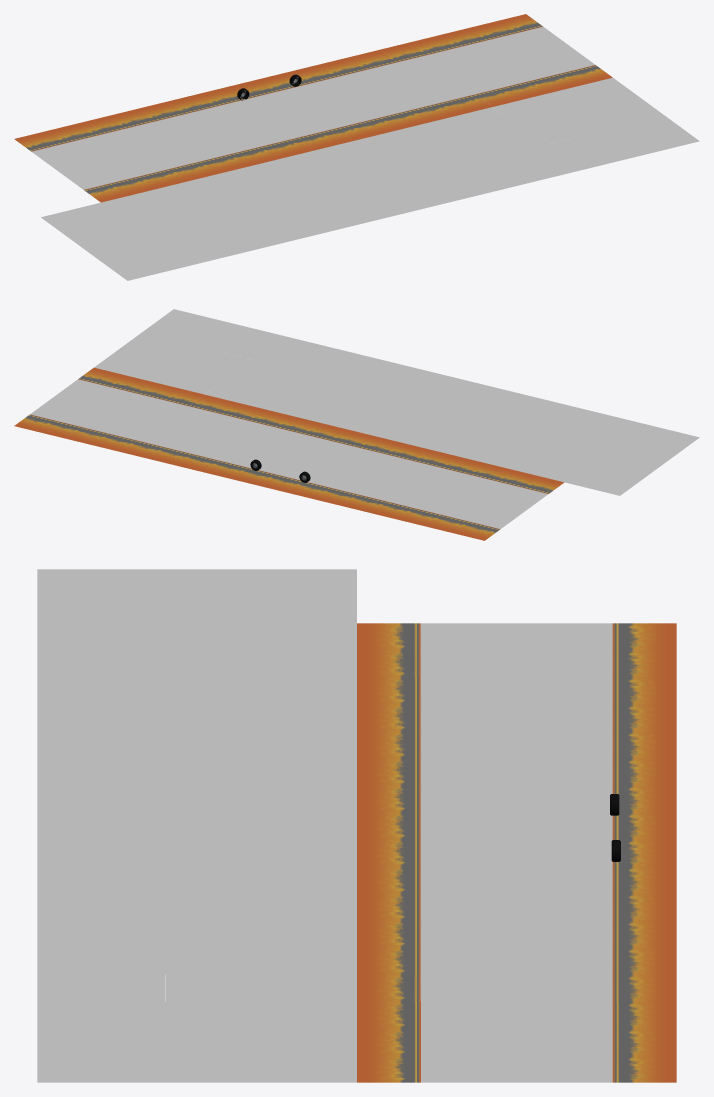
Rendered from VanBob.fbx.
3 renders of one model, top to bottom at view 1: azimuth 30°, elevation 25°; view 2: azimuth 150°, elevation 25°; view 3: azimuth 270°, elevation 25°, orthographic. The views are drawn at different scales.
Visible parts, largest first — view 1: Floor2x41, Floor2x148, Floor2x59 (3), Floor2x56, Floor2x92, Floor2x91 (3), Floor2x84, Floor2x32, Floor2x58 (4), Floor2x147, Floor2x12, Floor2x8 (+168 smaller); view 2: Floor2x144, Floor2x58 (4), Floor2x12, Floor2x47, Floor2x114 (2), Floor2x91 (4), Floor2x102, Floor2x84, Floor2x58, Floor2x41, Floor2x147, Floor2x22 (+168 smaller); view 3: Floor2x8, Floor2x9, Floor2x7, Floor2x10, Floor2x126, Floor2x25, Floor2x48, Floor2x32, Floor2x45, Floor2x58, Floor2x41, Floor2x147 (+168 smaller).
Part boxes in pixels (x1,y1,x2,y2): Floor2x41: [350, 83, 396, 103]; Floor2x148: [32, 144, 78, 164]; Floor2x59 (3): [466, 21, 512, 41]; Floor2x56: [74, 117, 121, 136]; Floor2x92: [497, 132, 544, 152]; Floor2x91 (3): [588, 110, 634, 130]; Floor2x84: [239, 178, 285, 198]; Floor2x32: [290, 98, 336, 118]; Floor2x58 (4): [531, 39, 577, 59]; Floor2x147: [79, 150, 125, 169]; Floor2x12: [169, 127, 216, 147]; Floor2x8: [200, 120, 246, 140]; Floor2x144: [624, 454, 667, 472]; Floor2x58 (4): [46, 391, 89, 409]; Floor2x12: [378, 472, 421, 490]; Floor2x47: [390, 490, 433, 508]; Floor2x114 (2): [197, 334, 240, 352]; Floor2x91 (4): [126, 332, 169, 350]; Floor2x102: [375, 393, 418, 411]; Floor2x84: [442, 425, 485, 443]; Floor2x58: [129, 411, 171, 429]; Floor2x41: [212, 431, 255, 449]; Floor2x147: [462, 492, 504, 510]; Floor2x22: [311, 440, 354, 458]; Floor2x8: [484, 758, 548, 785]; Floor2x9: [420, 758, 484, 785]; Floor2x7: [548, 758, 612, 785]; Floor2x10: [612, 758, 676, 785]; Floor2x126: [37, 812, 101, 839]; Floor2x25: [484, 812, 548, 839]; Floor2x48: [484, 704, 548, 731]; Floor2x32: [484, 839, 548, 866]; Floor2x45: [484, 920, 548, 947]; Floor2x58: [484, 974, 548, 1001]; Floor2x41: [484, 893, 548, 920]; Floor2x147: [484, 650, 548, 677].
Bounding box in the file's own units: 91.2 × 1.73 × 48.
